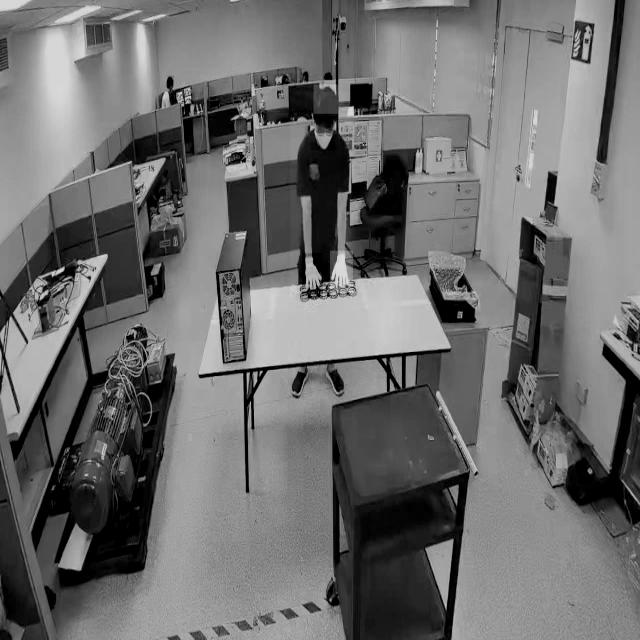face_mask: (311, 116, 335, 150)
hand_glove: (301, 253, 323, 300), (329, 251, 353, 293)
head_nohelmet: (313, 84, 338, 114), (167, 76, 174, 82)
person: (290, 92, 351, 294)
shoes: (323, 361, 348, 397), (291, 363, 311, 402)
